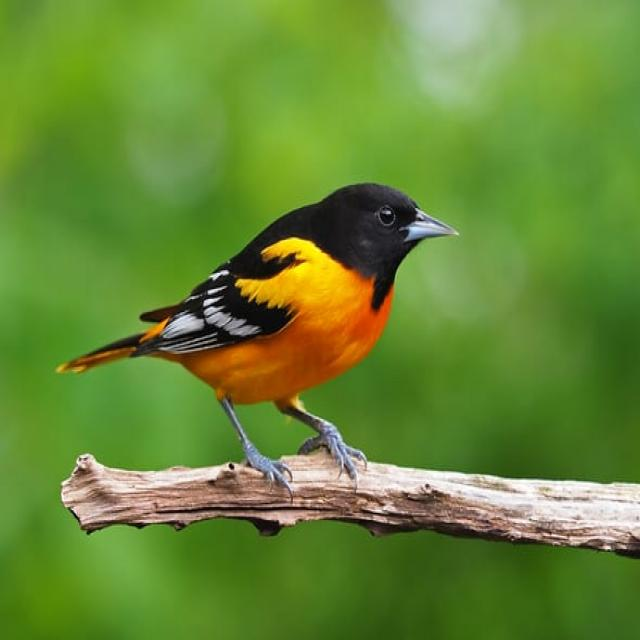Birds: (207, 139, 463, 434)
